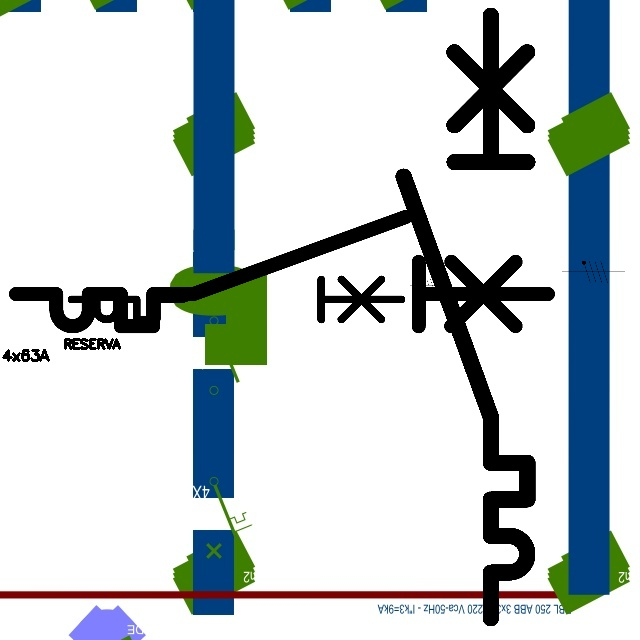interruptor_termomagnetico: (388, 0, 543, 634), (2, 203, 562, 340), (63, 243, 409, 328)
